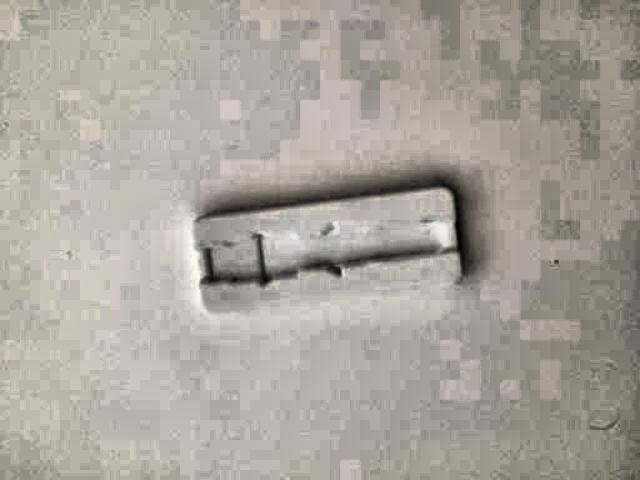Plastic: (191, 165, 485, 329)
